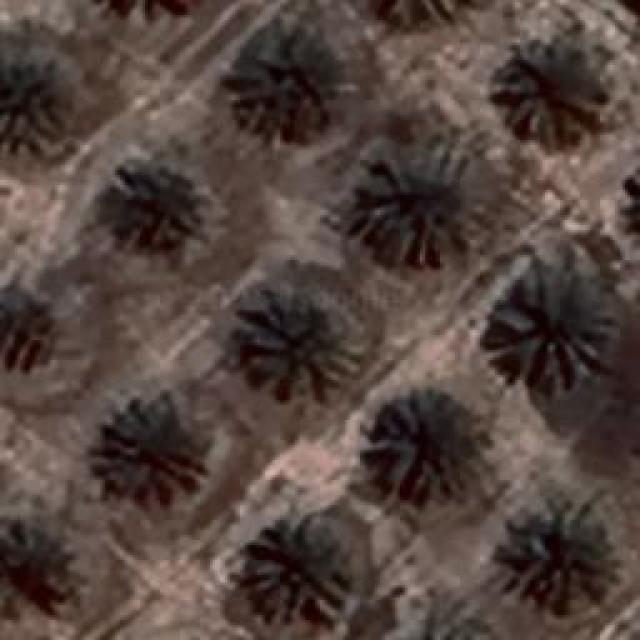PalmTree: (30, 77, 101, 571), (101, 12, 418, 77), (358, 142, 480, 262), (490, 270, 612, 378), (240, 292, 358, 400), (240, 514, 350, 628), (490, 32, 602, 140), (94, 394, 208, 498), (502, 502, 608, 608), (368, 394, 470, 498), (240, 29, 340, 132), (108, 158, 202, 248), (0, 48, 70, 150), (0, 284, 58, 374), (387, 591, 492, 640), (87, 0, 204, 19), (623, 154, 640, 252), (629, 154, 640, 252)
